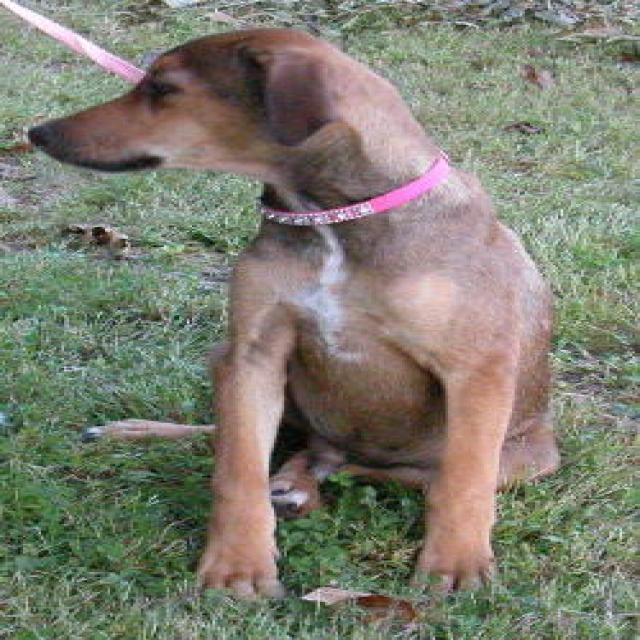Dogs: (23, 25, 563, 600)
